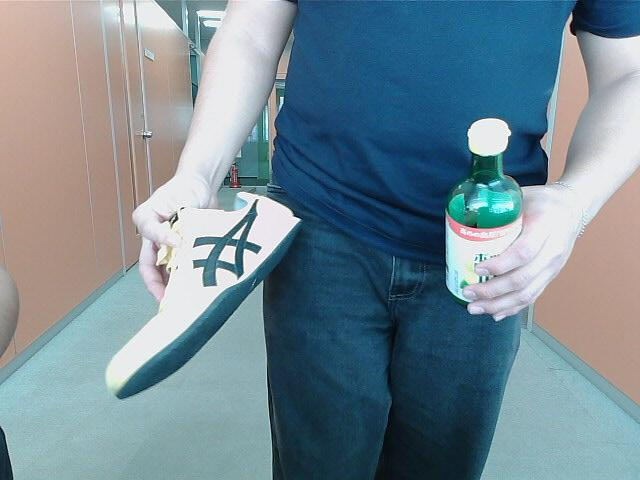Lemon_sapporo: (443, 117, 525, 309)
Shoes: (110, 184, 302, 401)
